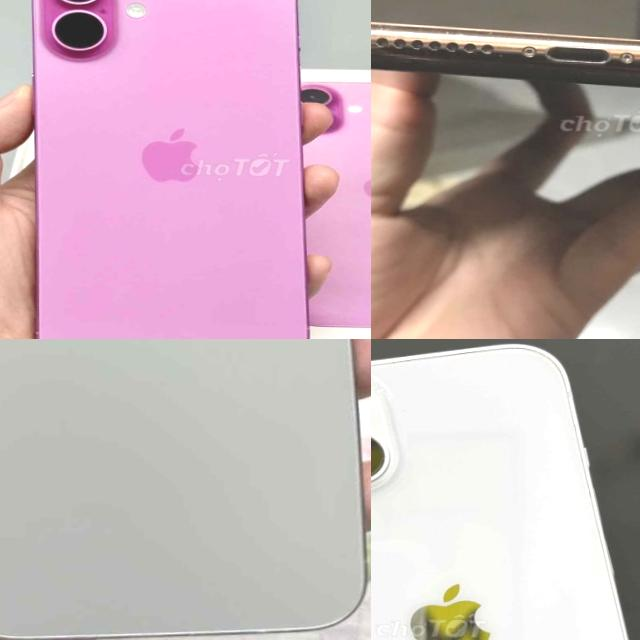gen_11: (371, 14, 640, 108)
gen_14: (371, 339, 640, 640)
gen_15: (0, 339, 371, 640)
gen_16: (19, 0, 325, 339)
scratch: (371, 19, 640, 89)
